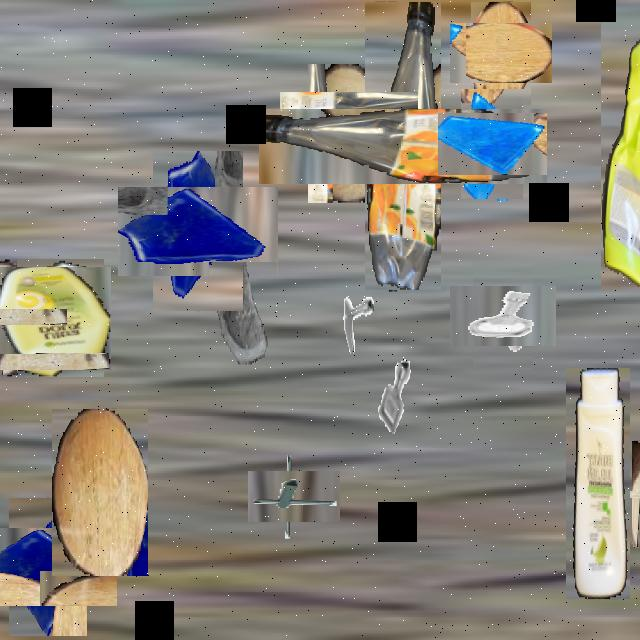glass: (136, 168, 260, 294), (0, 512, 102, 621), (209, 262, 277, 382), (449, 101, 535, 187)
metal: (461, 275, 545, 358), (367, 347, 423, 446), (258, 460, 330, 532), (332, 277, 374, 352)
plastic: (312, 55, 494, 237), (566, 368, 630, 599), (0, 262, 107, 373), (601, 2, 640, 290)
wood: (52, 409, 148, 576), (294, 78, 404, 189), (460, 13, 542, 94), (0, 282, 42, 350), (607, 465, 640, 522)
